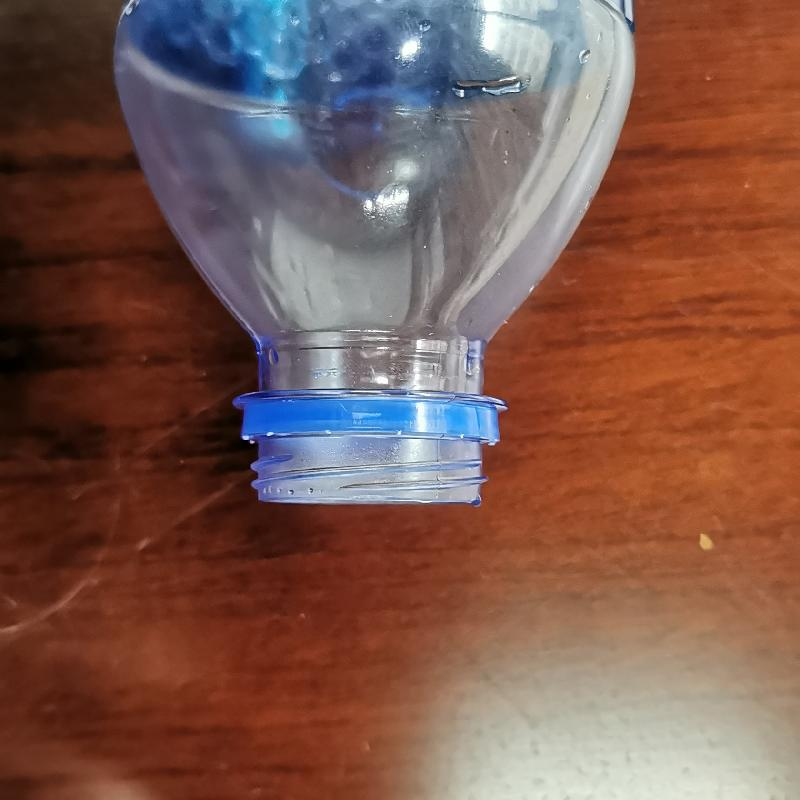bottles: (106, 1, 639, 508)
